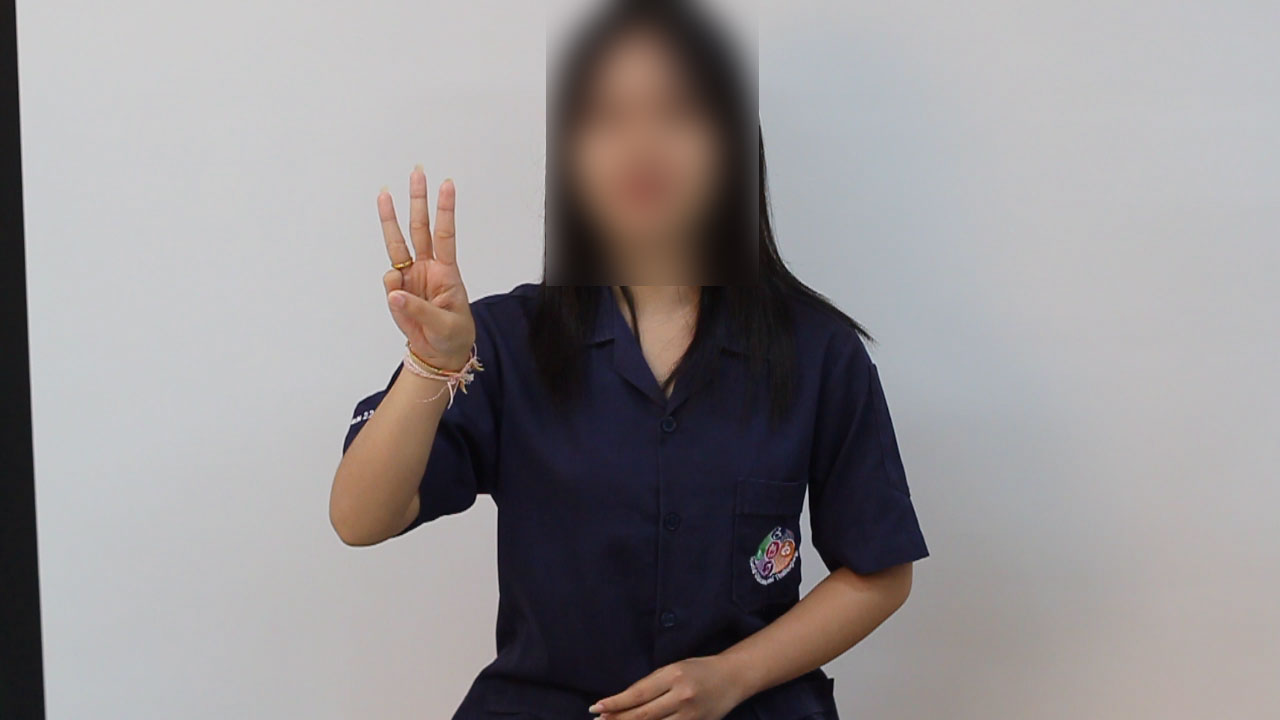wor: (368, 159, 487, 381)
